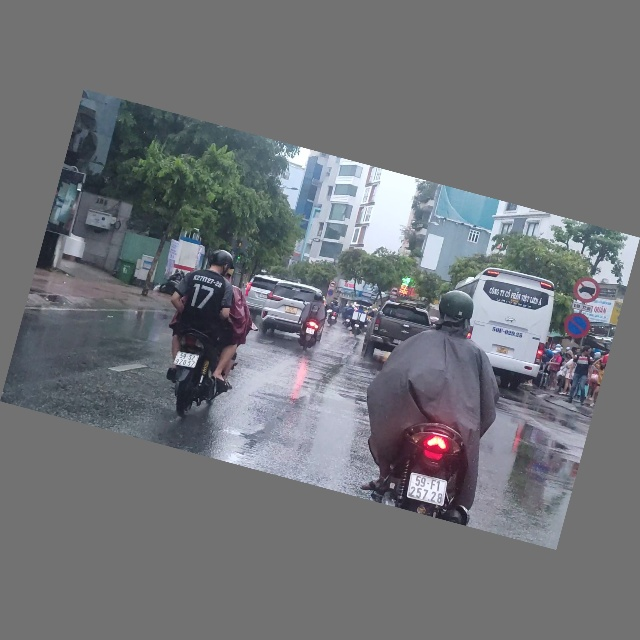P.106a*Xe tai: (571, 275, 602, 307), (390, 287, 400, 297), (330, 281, 336, 288)
P.131a: (562, 310, 594, 343), (327, 290, 334, 297)
